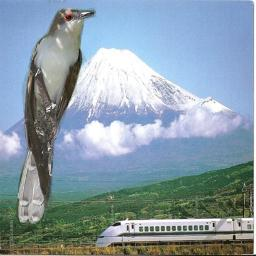Cuckoo: (15, 5, 97, 224)
